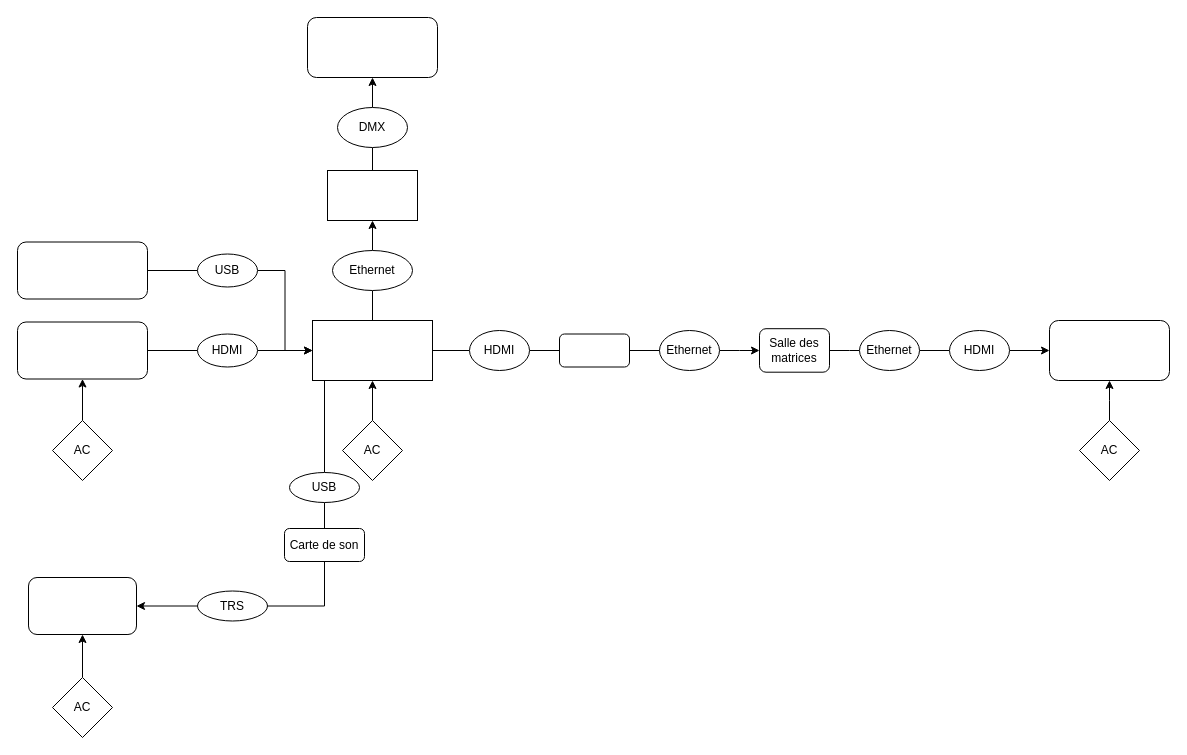
Some shapes in this 1187 by 755 pixel diagram are drawn without their labels. The shapes that lost their labels are listed below. From the top down, each one's centre as x and y in pixels, then its label:
At point (372, 47): "Éclairage (x6) RGBW".
At point (372, 195): "Convertisseur Ethernet/DMX".
At point (82, 270): "Webcam (x2)".
At point (82, 350): "Caméra A6000 (x2)".
At point (372, 350): "Ordinateur".
At point (594, 350): "Extender".
At point (1109, 350): "Projecteur".
At point (82, 605): "Enceintes (x2)".
